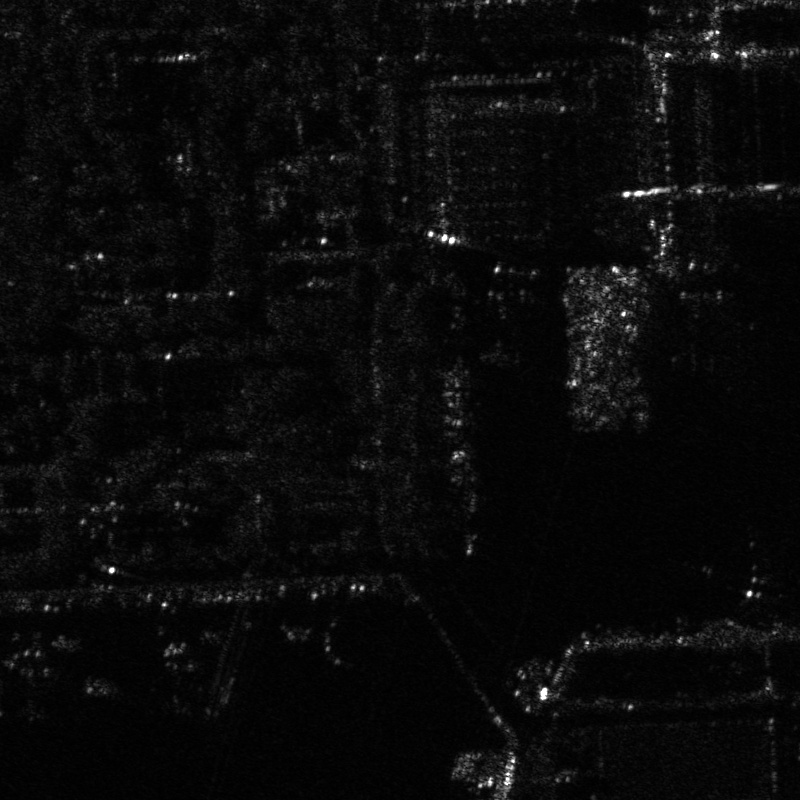ARJ21: (140, 637, 228, 721)
Boeing737: (663, 288, 759, 377), (474, 283, 547, 369)
